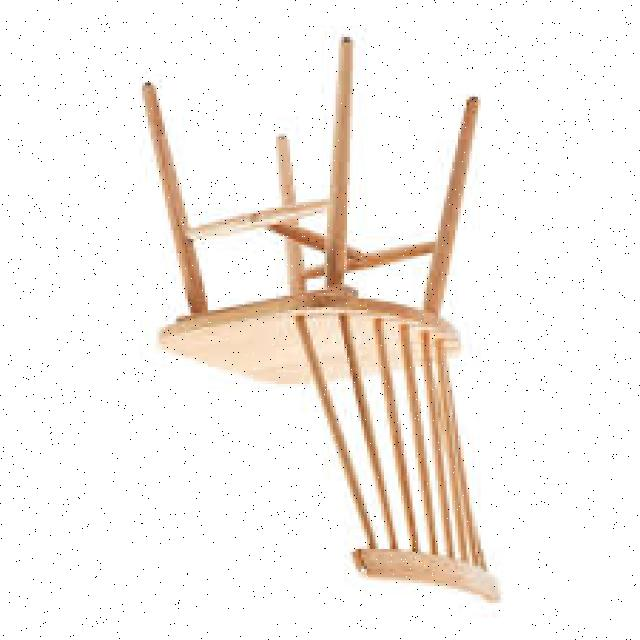bottle: (133, 32, 506, 612)
